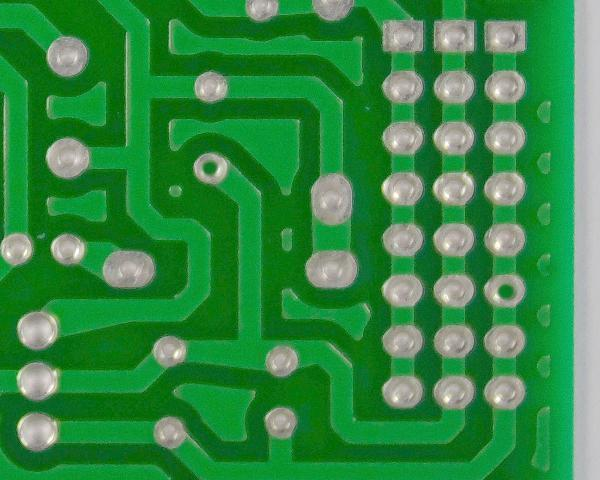missing hole: (479, 268, 531, 311), (191, 148, 235, 188)
